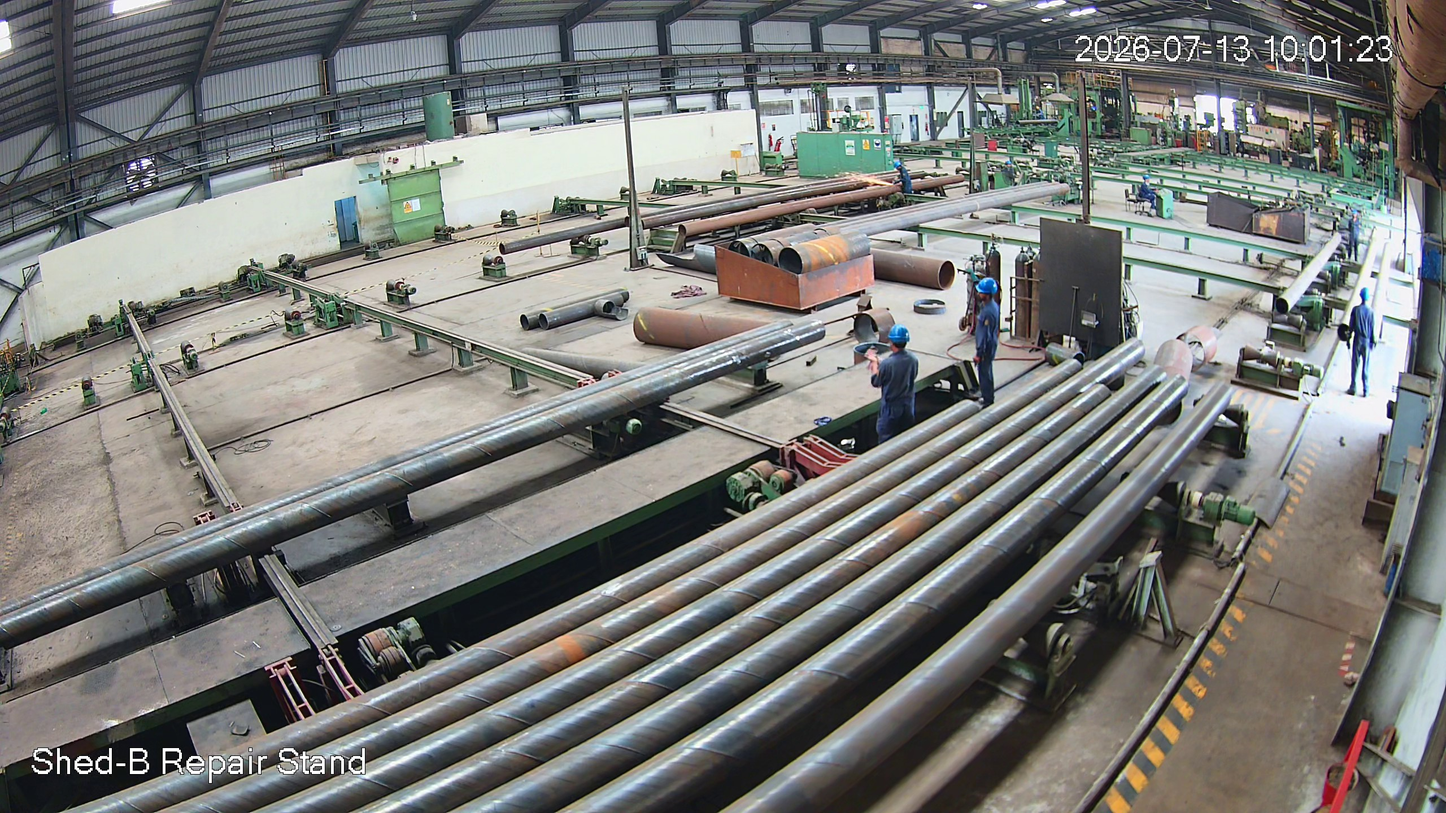Helmet: (970, 275, 1004, 310), (885, 323, 915, 362), (1355, 286, 1374, 312)
Person: (869, 326, 931, 434), (965, 276, 1007, 414), (1343, 288, 1378, 398)
